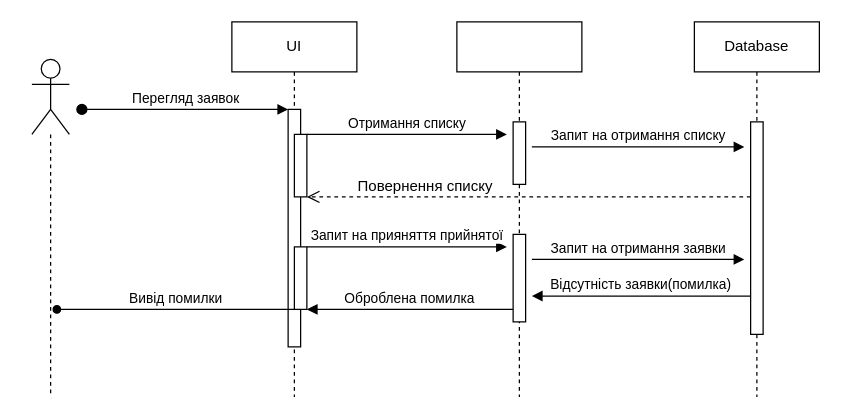
Image size: 841x420. Some labels were removed from this diagram. The shapes that lost their labels are listed below. From the top down, each one's box as (x1, y1, x2, y2) in pixels, then its label:
(31, 58, 69, 134): Manager
(456, 21, 582, 397): Server
